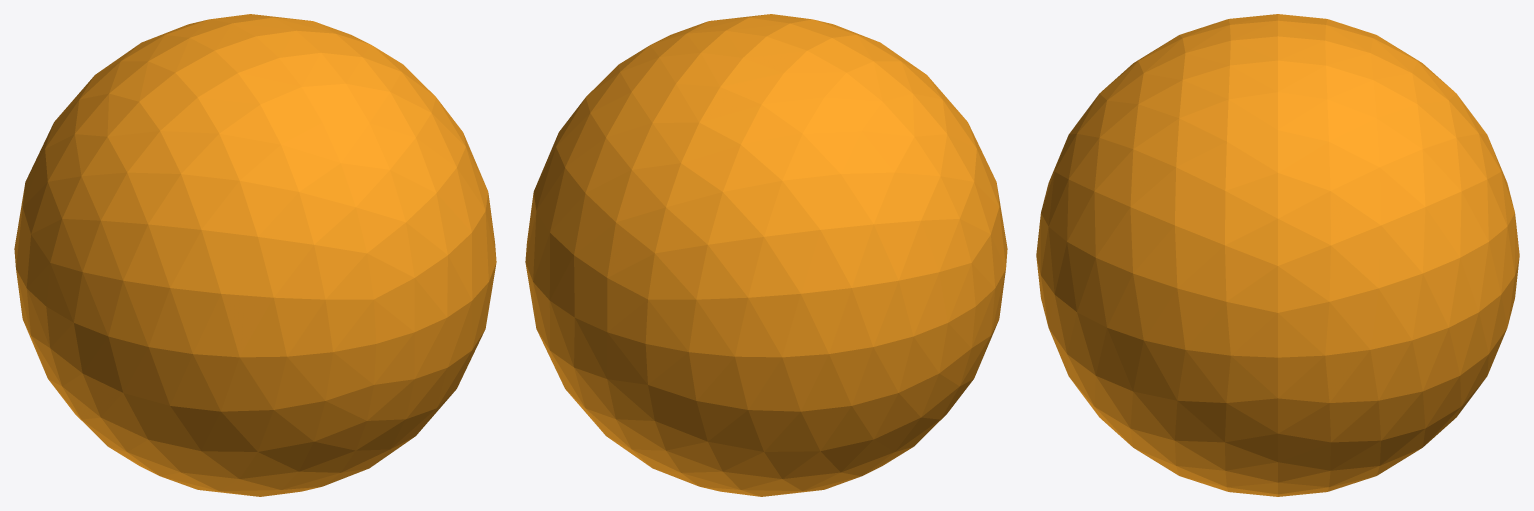
3 views of the same model, side by side, from view 1: azimuth 30°, elevation 25°; view 2: azimuth 150°, elevation 25°; view 3: azimuth 270°, elevation 25° (orthographic).
Parts seen in each view (by area): view 1: SM_Primitive_Sphere_04; view 2: SM_Primitive_Sphere_04; view 3: SM_Primitive_Sphere_04.
Part boxes in pixels (<box>): SM_Primitive_Sphere_04: <box>14,14,496,496</box>; SM_Primitive_Sphere_04: <box>525,14,1007,496</box>; SM_Primitive_Sphere_04: <box>1036,14,1519,496</box>.
Bounding box in the file's own units: 100 × 100 × 100.
